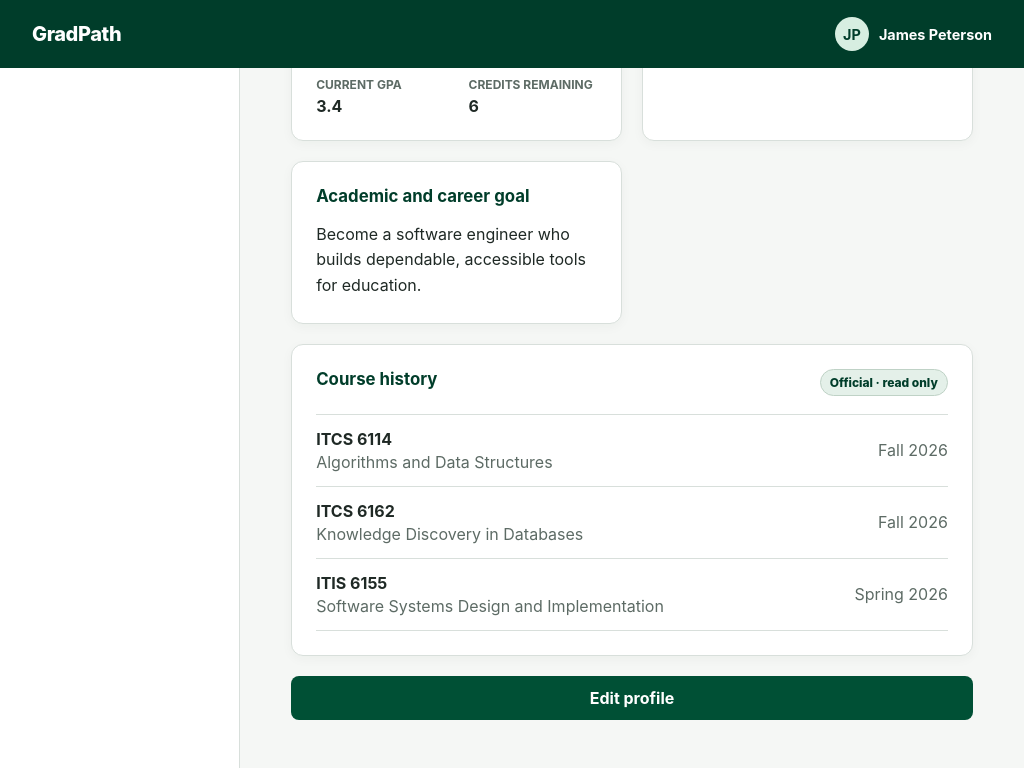
Test: GradPath application shell › keeps the draft open and reports a browser-storage failure
This screenshot has width=1024, height=768.
(page scrolled)
Click the button "Edit profile": (632, 698) left=291, top=676, right=973, bottom=720
(page scrolled)
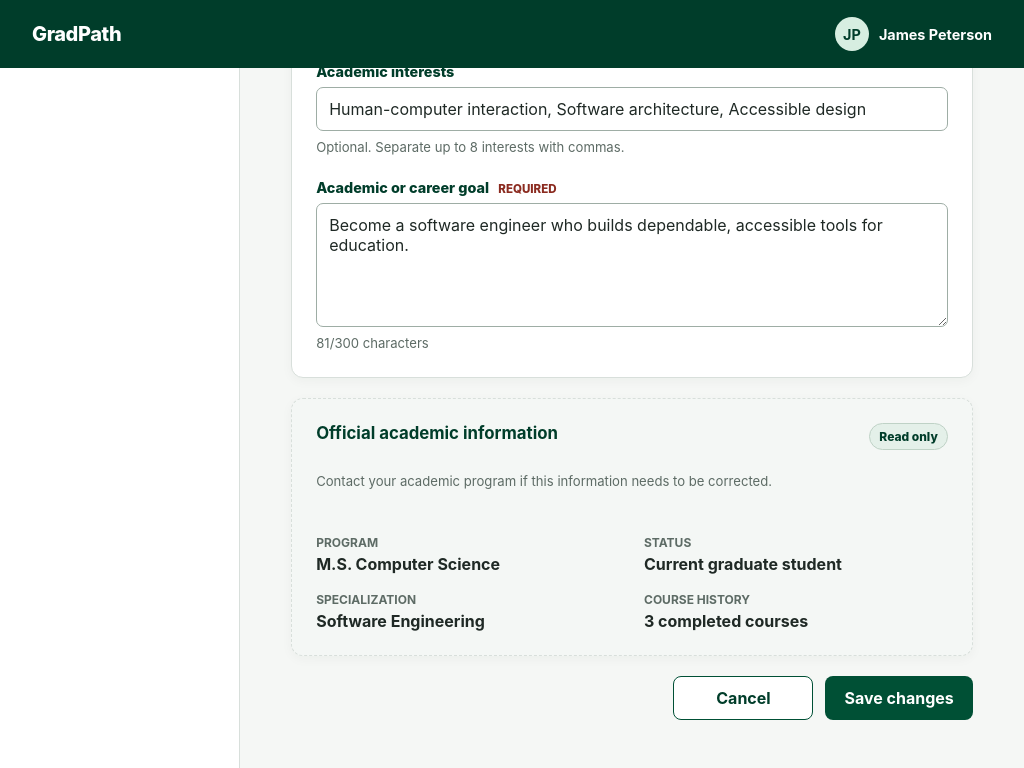
Click the button "Save changes": (899, 698) left=826, top=676, right=973, bottom=720
(page scrolled)
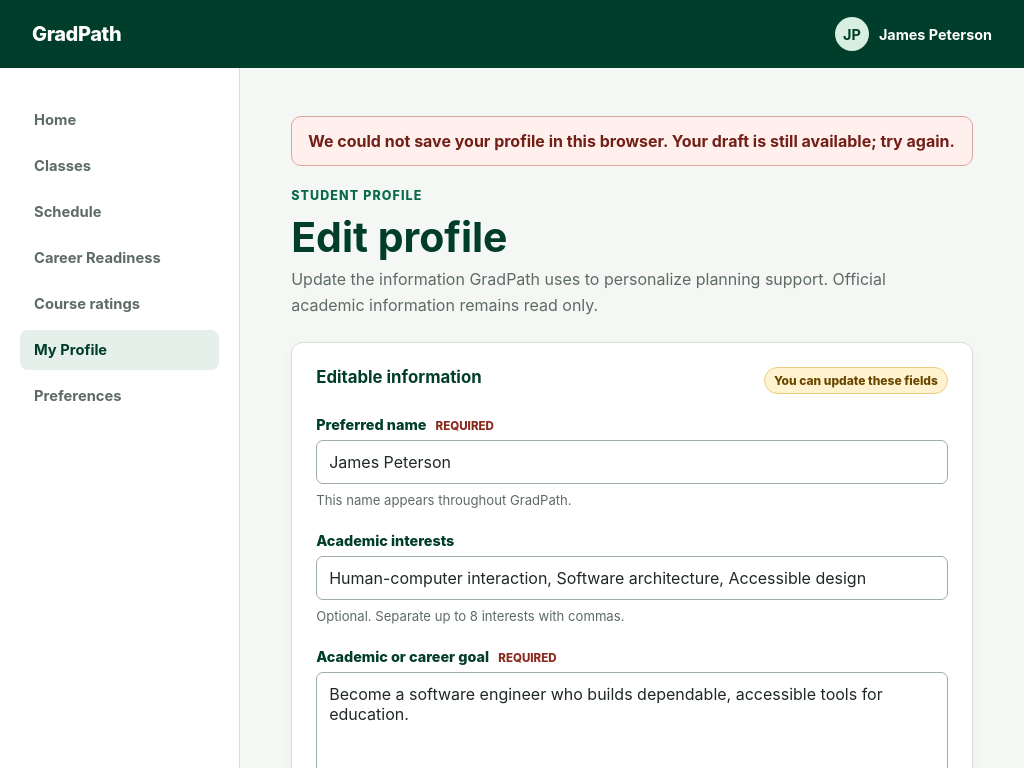
expect the heading "Edit profile" is shown: met, box left=291, top=212, right=508, bottom=262
expect the message shows "We could not save your profile in this browser.": met, box left=308, top=131, right=955, bottom=151
